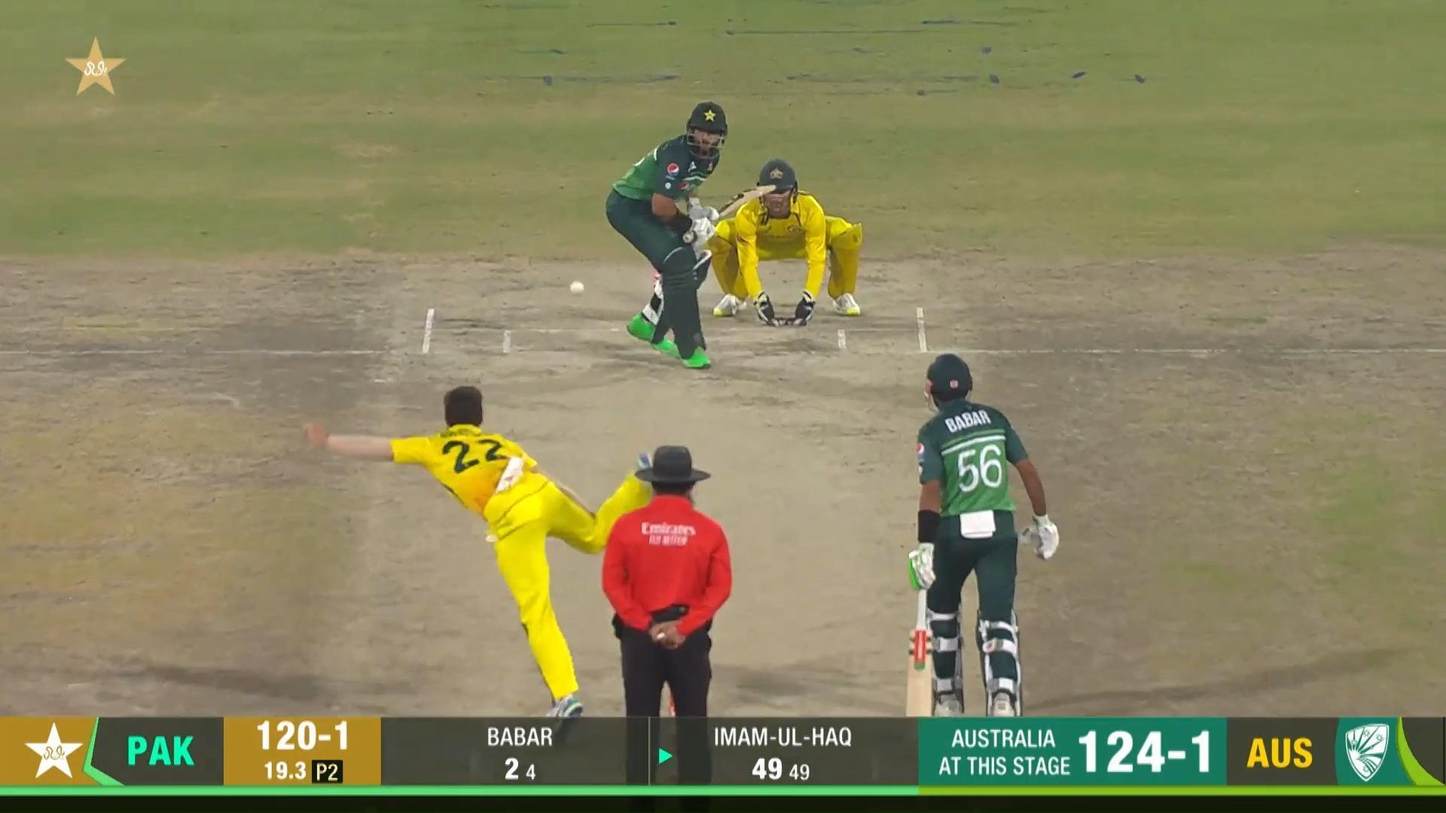BM 1: (606, 100, 776, 370)
BO: (302, 384, 655, 743)
